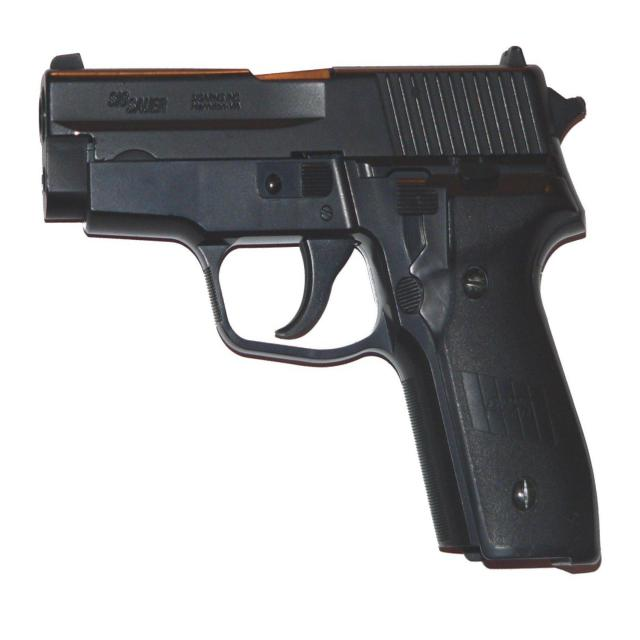pistol: (39, 48, 600, 572)
